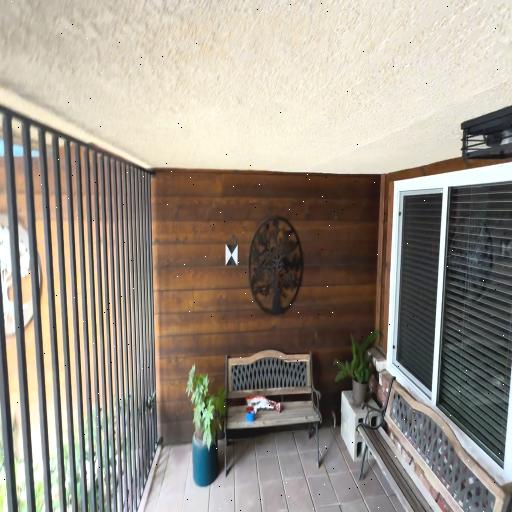target: (226, 245, 238, 266)
